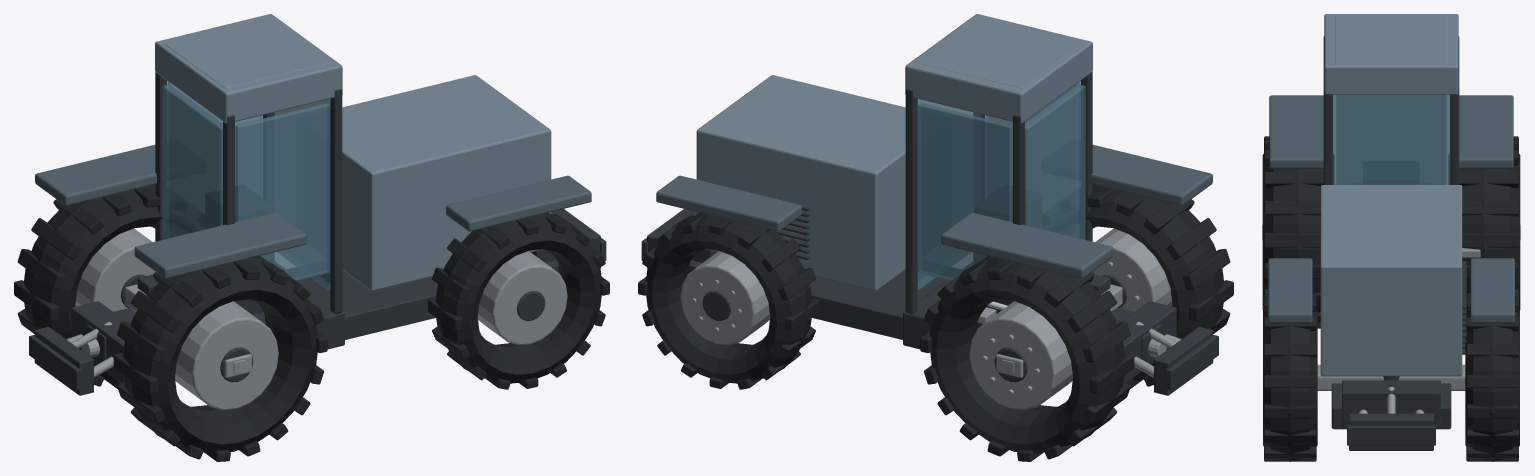
The model's file is jcb-fastrac-8330-icon-structural-study.glb.
The picture shows the model from 3 angles, left to right: view 1: azimuth 30°, elevation 25°; view 2: azimuth 150°, elevation 25°; view 3: azimuth 270°, elevation 25°; orthographic projection. The views are drawn at different scales.
Parts seen in each view (by area): view 1: Engine_Hood, Rear_R_Tire, Front_R_Tire, Cab_R_Glass, Cab_Rear_Glass, Cab_Roof, Rear_R_Rim, Rear_L_Tire, Published_Height_Roof, Rear_R_Fender, Front_R_Rim, Tractor_Main_Frame (+22 smaller); view 2: Engine_Hood, Rear_L_Tire, Front_L_Tire, Cab_L_Glass, Cab_Rear_Glass, Cab_Roof, Rear_L_Rim, Rear_R_Tire, Published_Height_Roof, Rear_L_Fender, Front_L_Rim, Tractor_Main_Frame (+22 smaller); view 3: Engine_Hood, Cab_Front_Glass, Published_Height_Roof, Cab_Roof, Front_R_Tire, Front_L_Tire, Rear_L_Fender, Rear_R_Fender, Rear_R_Tire, Front_Hitch_Chassis_Mount, Rear_L_Tire, Front_L_Fender (+26 smaller).
Boxes of the visible parts, x1,y1,x2,y2 form: Engine_Hood: (342,75,551,290); Rear_R_Tire: (123,257,317,453); Front_R_Tire: (435,214,601,383); Cab_R_Glass: (235,103,329,280); Cab_Rear_Glass: (162,84,222,239); Cab_Roof: (155,14,342,123); Rear_R_Rim: (175,301,278,410); Rear_L_Tire: (23,184,197,381); Published_Height_Roof: (165,17,335,88); Rear_R_Fender: (134,213,306,278); Front_R_Rim: (477,251,567,345); Tractor_Main_Frame: (113,260,559,339); Engine_Hood: (696,75,905,290); Rear_L_Tire: (930,257,1124,453); Front_L_Tire: (646,214,812,383); Cab_L_Glass: (918,103,1012,280); Cab_Rear_Glass: (1025,84,1085,239); Cab_Roof: (905,14,1092,123); Rear_L_Rim: (969,301,1072,410); Rear_R_Tire: (1050,184,1224,381); Published_Height_Roof: (912,17,1082,88); Rear_L_Fender: (941,213,1113,278); Front_L_Rim: (680,251,770,345); Tractor_Main_Frame: (688,260,1134,339); Engine_Hood: (1320,185,1462,376); Cab_Front_Glass: (1332,94,1450,184); Published_Height_Roof: (1335,15,1447,65); Cab_Roof: (1324,14,1458,94); Front_R_Tire: (1263,309,1317,461); Front_L_Tire: (1465,309,1519,461); Rear_L_Fender: (1459,95,1513,168); Rear_R_Fender: (1269,95,1323,168); Rear_R_Tire: (1262,154,1333,323); Front_Hitch_Chassis_Mount: (1342,380,1440,428); Rear_L_Tire: (1449,154,1520,309); Front_L_Fender: (1470,258,1514,323).
Size of the model in its own units: 5.65 by 3.45 by 2.55.
